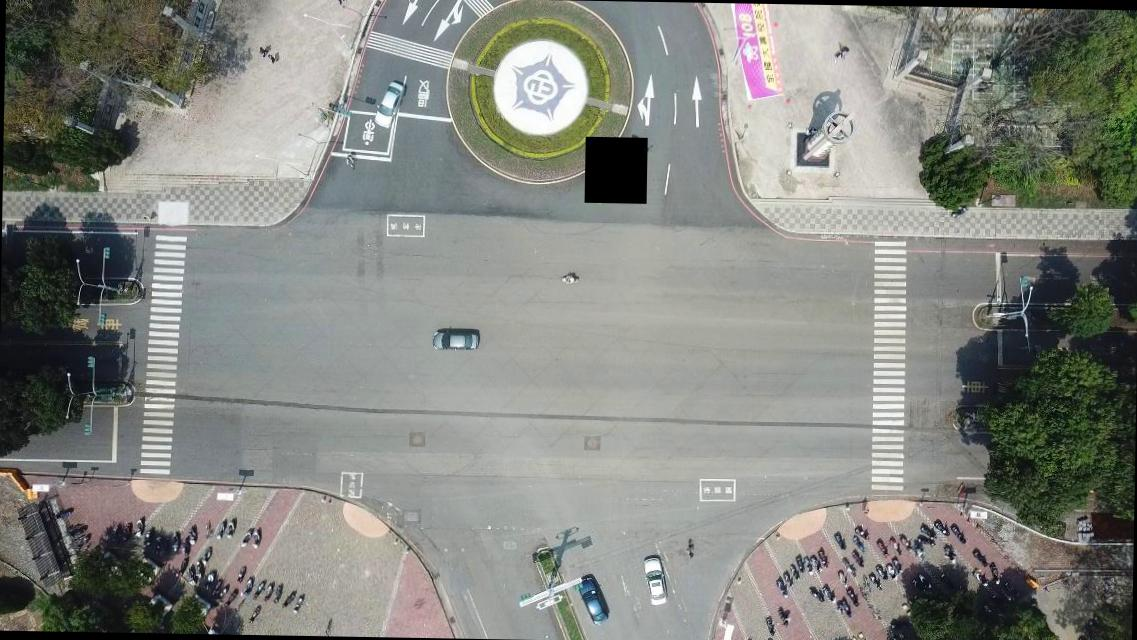vehicle: (572, 574, 610, 627), (374, 80, 405, 130), (641, 552, 669, 606), (430, 328, 480, 352)
